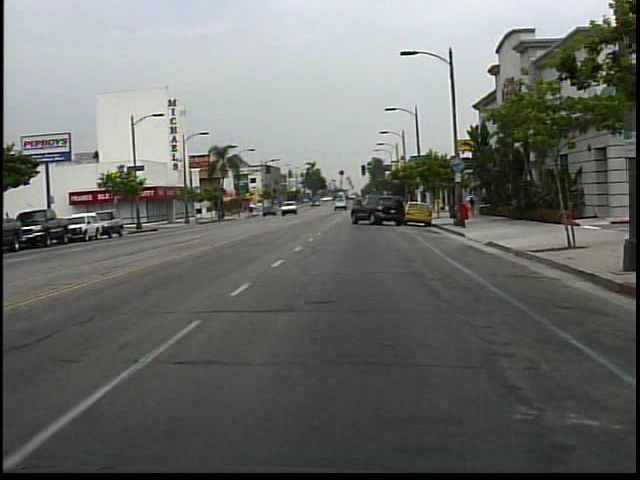person: (466, 187, 479, 220)
